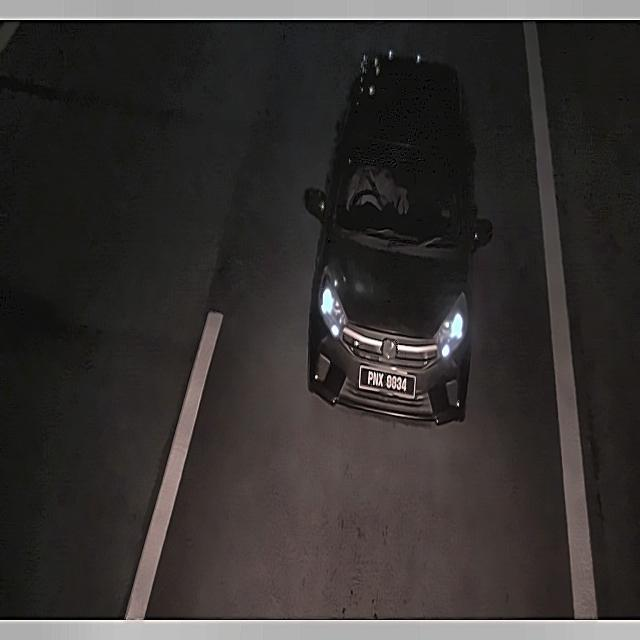car: (357, 360, 419, 406)
